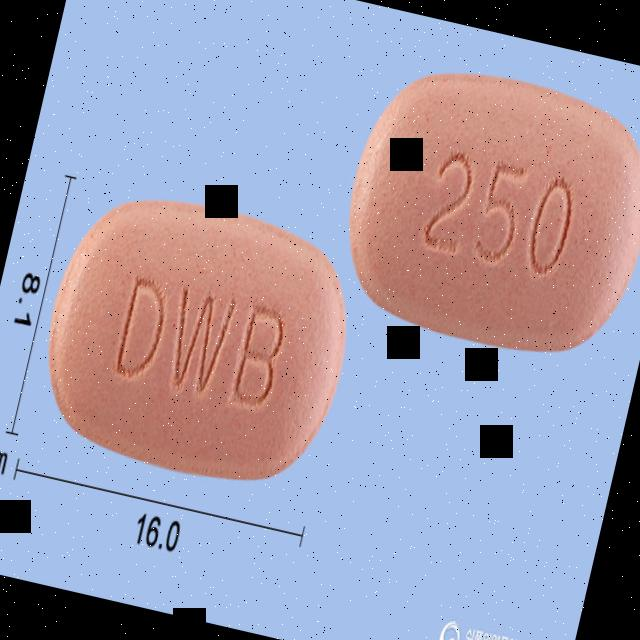Cravocin: (23, 174, 370, 502), (323, 46, 640, 370)
